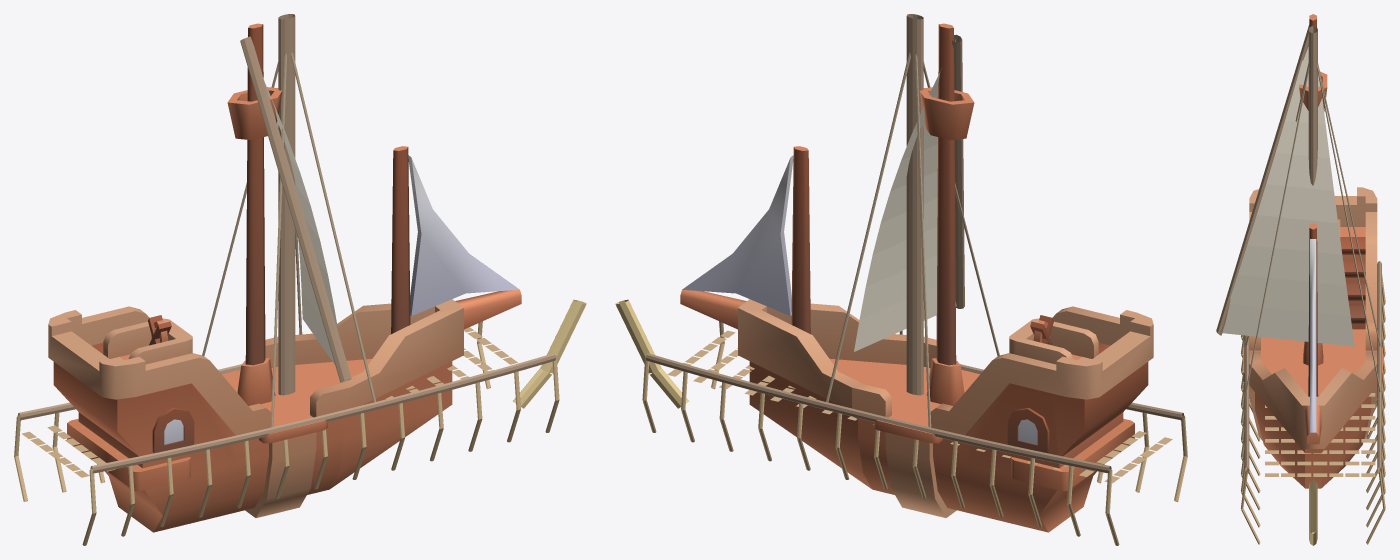
File: bermuda_sloop-custom.glb
3 renders of one model, left to right at view 1: azimuth 30°, elevation 25°; view 2: azimuth 150°, elevation 25°; view 3: azimuth 270°, elevation 25°, orthographic. The views are drawn at different scales.
Visible parts, largest first — view 1: ship-small, bermuda_sloop-custom-geometry; view 2: ship-small, bermuda_sloop-custom-geometry; view 3: bermuda_sloop-custom-geometry, ship-small.
Part boxes in pixels (x1,y1,x2,y2): ship-small: (48,23,521,532); bermuda_sloop-custom-geometry: (14,14,586,545); ship-small: (680,23,1153,532); bermuda_sloop-custom-geometry: (615,14,1187,545); bermuda_sloop-custom-geometry: (1216,25,1385,545); ship-small: (1243,14,1382,488).
Bounding box in the file's own units: 26.68 × 22.73 × 8.04.
7 materials, 1 textured.
